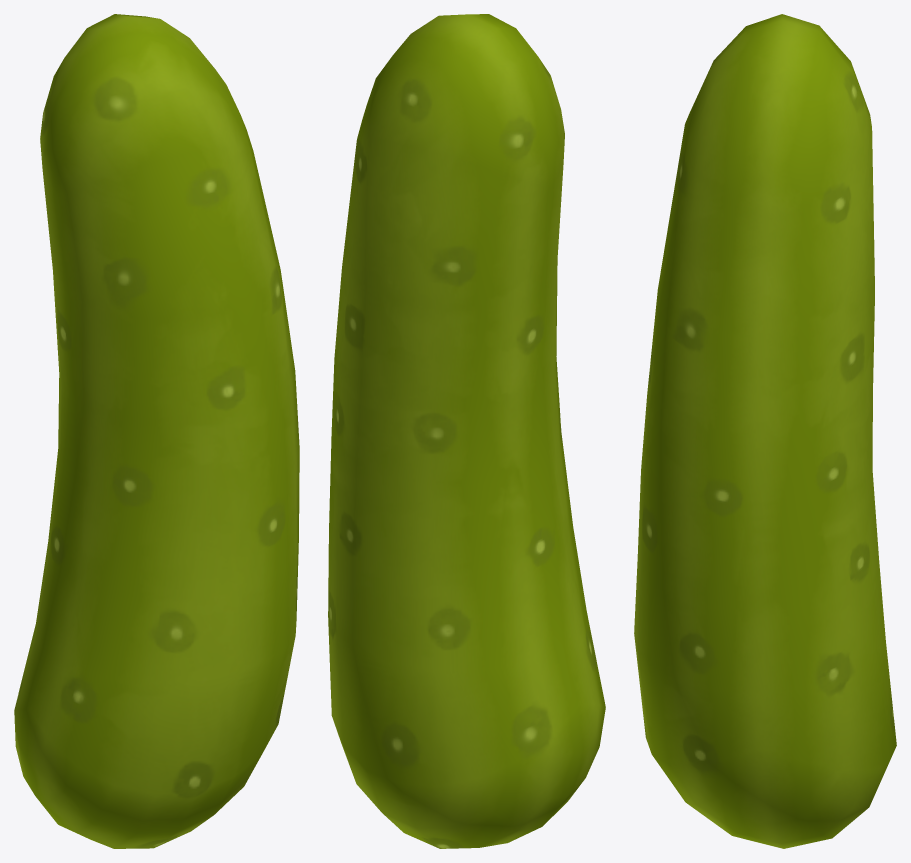
The model's file is pickle.glb.
3 views of the same model, side by side, from view 1: azimuth 30°, elevation 25°; view 2: azimuth 150°, elevation 25°; view 3: azimuth 270°, elevation 25° (orthographic).
Parts seen in each view (by area): view 1: Pickle; view 2: Pickle; view 3: Pickle.
Part boxes in pixels (x1,y1,x2,y2): Pickle: (14, 14, 299, 848); Pickle: (328, 14, 605, 848); Pickle: (634, 14, 896, 848).
Size of what is drawn, in the model's own units: 0.5575 by 1.78 by 0.5172.
Materials: 1 (1 with a texture image).
